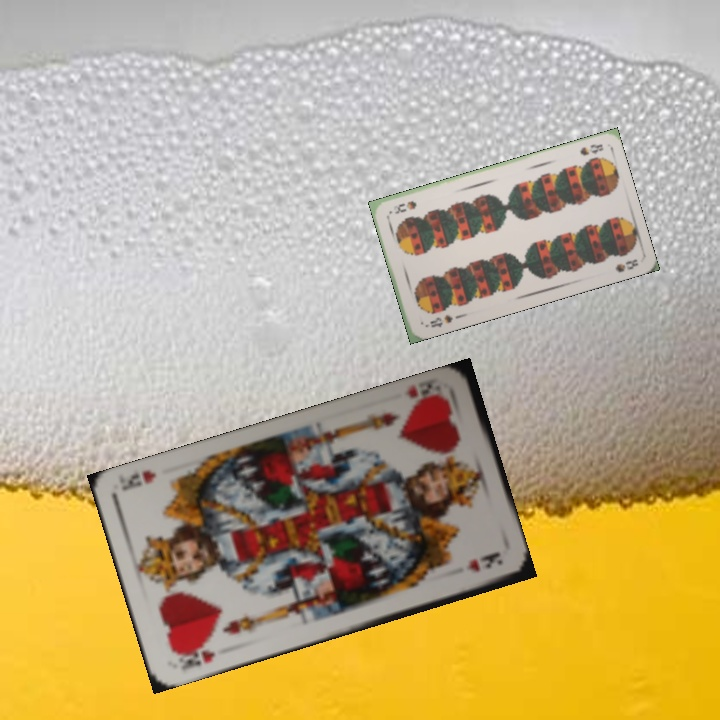HK: (400, 378, 450, 411), (173, 642, 218, 674)
S8: (425, 311, 455, 330), (576, 140, 606, 158)
